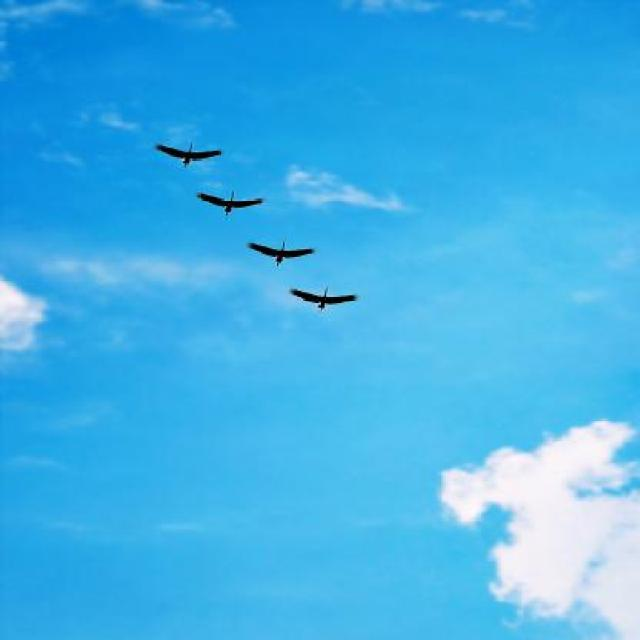bird: (195, 188, 268, 218), (248, 238, 317, 268), (153, 140, 224, 168), (290, 286, 358, 312)
